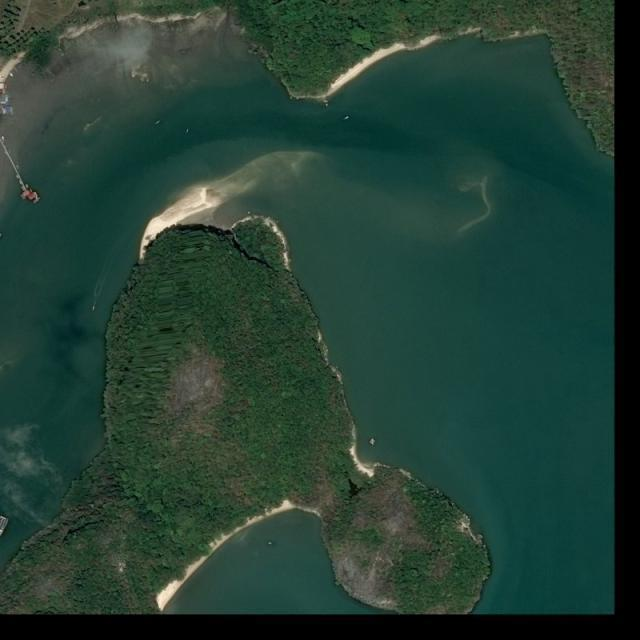ship: (342, 116, 350, 122)
